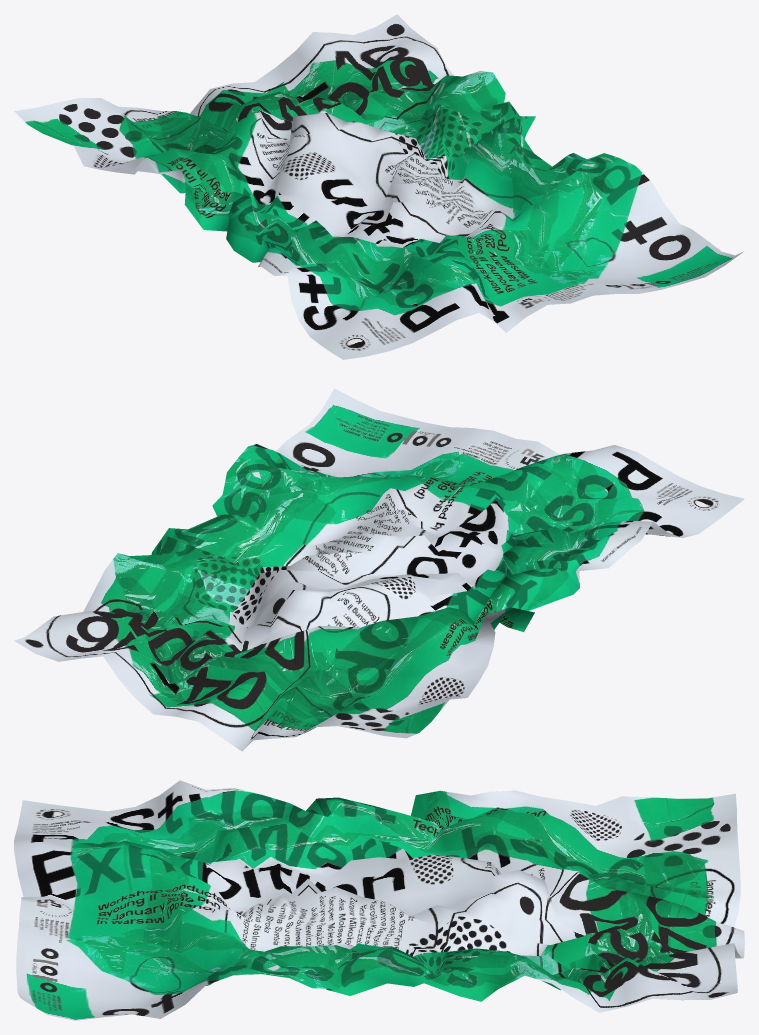
Rendered from poster.gltf.
3 renders of one model, top to bottom at view 1: azimuth 30°, elevation 25°; view 2: azimuth 150°, elevation 25°; view 3: azimuth 270°, elevation 25°, orthographic. The views are drawn at different scales.
Parts seen in each view (by area): view 1: Plane; view 2: Plane; view 3: Plane.
Boxes of the visible parts, bbox=[...] form: Plane: bbox=[14, 14, 743, 359]; Plane: bbox=[14, 388, 744, 751]; Plane: bbox=[14, 780, 744, 1020].
Bounding box in the file's own units: 1.25 × 0.2324 × 1.82.
Materials: 1 (1 with a texture image).
